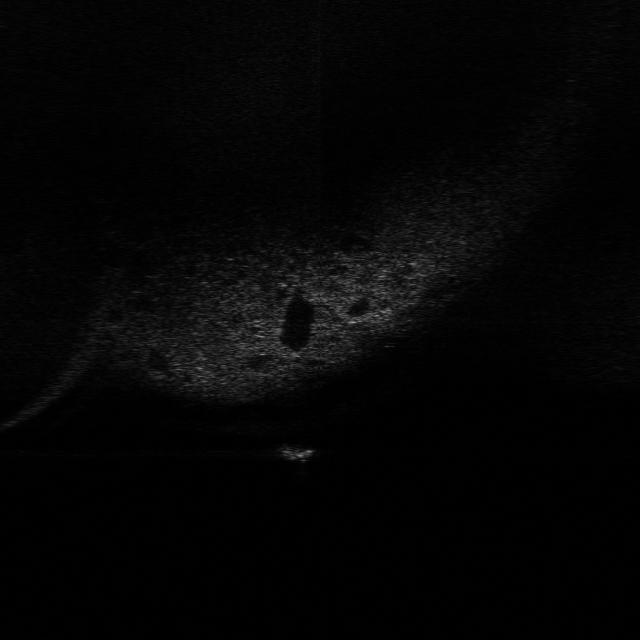cube: (267, 435, 323, 465)
